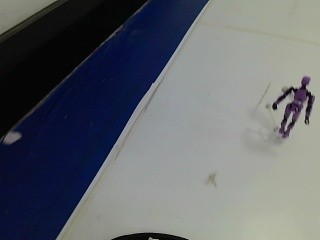pedestrian: (269, 64, 314, 144)
